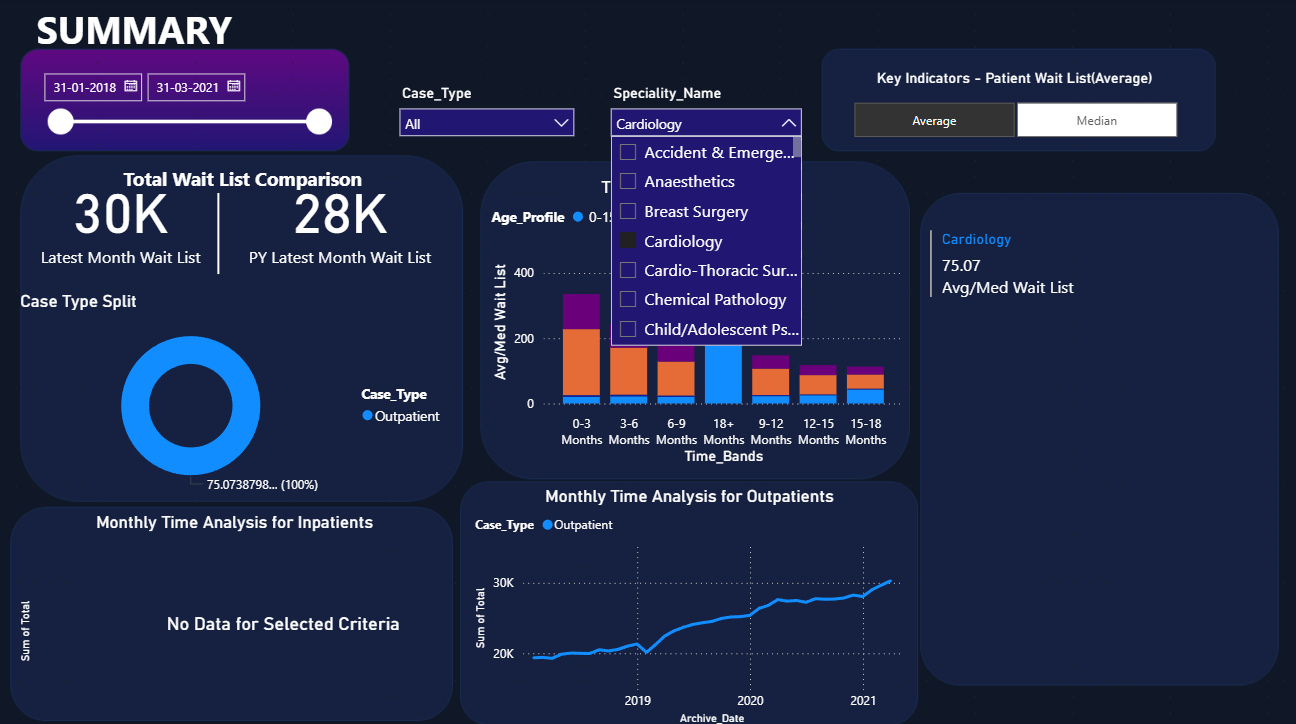

The page's visual inventory and layout, read from the dashboard file:
{"tool":"powerbi","page":{"name":"Summary","canvas":[1280,720],"ordinal":0},"visuals":[{"type":"card","fields":{"Values":["All_Data.Latest Month Wait List"]},"box":[32,160,176,112],"z":0},{"type":"card","fields":{"Values":["All_Data.PY Latest Month Wait List"]},"box":[240,160,192,112],"z":1000},{"type":"slicer","fields":{"Values":["Calculation Method.Calc Method"]},"box":[816,96,368,48],"z":2000},{"type":"donutChart","title":"Case Type Split","fields":{"Category":["All_Data.Case_Type"],"Y":["All_Data.Avg/Med Wait List"]},"box":[16,288,432,208],"z":3000},{"type":"columnChart","title":"Time Band vs. Age Profile","fields":{"Y":["All_Data.Avg/Med Wait List"],"Category":["All_Data.Time_Bands"],"Series":["All_Data.Age_Profile"]},"box":[480,176,416,288],"z":4000},{"type":"multiRowCard","fields":{"Values":["All_Data.Speciality_Name","All_Data.Avg/Med Wait List"]},"box":[912,224,352,448],"z":5000},{"type":"card","fields":{"Values":["All_Data.NoDataLeft"]},"box":[160,592,240,48],"z":5500},{"type":"lineChart","title":"Monthly Time Analysis for Inpatients","fields":{"Category":["All_Data.Archive_Date"],"Y":["Sum(All_Data.Total)"],"Series":["All_Data.Case_Type"]},"box":[16,506,432,208],"z":6000},{"type":"card","fields":{"Values":["All_Data.NoDataRight"]},"box":[624,608,240,48],"z":7000},{"type":"lineChart","title":"Monthly Time Analysis for Outpatients","fields":{"Category":["All_Data.Archive_Date"],"Y":["Sum(All_Data.Total)"],"Series":["All_Data.Case_Type"]},"box":[464,480,432,240],"z":8000},{"type":"slicer","fields":{"Values":["All_Data.Archive_Date"]},"box":[32,64,304,112],"z":9000},{"type":"slicer","fields":{"Values":["All_Data.Case_Type"]},"box":[384,80,192,64],"z":10000},{"type":"slicer","fields":{"Values":["All_Data.Speciality_Name"]},"box":[592,80,208,64],"z":11000},{"type":"textbox","box":[32,0,240,64],"z":12000},{"type":"shape","box":[96,192,240,80],"z":13000},{"type":"textbox","box":[96,160,288,48],"z":14000},{"type":"card","fields":{"Values":["All_Data.Dynamic Title"]},"box":[832,64,336,32],"z":15000}]}

Visuals, with their boxes in screenshot pixels (x1, y1, x2, y2), scaled from the page's 1280x720 canvas onto the 1296x724 screenshot:
card - All_Data.Latest Month Wait List: locate(32, 161, 211, 274)
card - All_Data.PY Latest Month Wait List: locate(243, 161, 437, 274)
slicer - Calculation Method.Calc Method: locate(826, 97, 1199, 145)
"Case Type Split" donutChart: locate(16, 290, 454, 499)
"Time Band vs. Age Profile" columnChart: locate(486, 177, 907, 467)
multiRowCard - All_Data.Speciality_Name x All_Data.Avg/Med Wait List: locate(923, 225, 1280, 676)
card - All_Data.NoDataLeft: locate(162, 595, 405, 644)
"Monthly Time Analysis for Inpatients" lineChart: locate(16, 509, 454, 718)
card - All_Data.NoDataRight: locate(632, 611, 875, 660)
"Monthly Time Analysis for Outpatients" lineChart: locate(470, 483, 907, 723)
slicer - All_Data.Archive_Date: locate(32, 64, 340, 177)
slicer - All_Data.Case_Type: locate(389, 80, 583, 145)
slicer - All_Data.Speciality_Name: locate(599, 80, 810, 145)
textbox: locate(32, 0, 275, 64)
shape: locate(97, 193, 340, 274)
textbox: locate(97, 161, 389, 209)
card - All_Data.Dynamic Title: locate(842, 64, 1183, 97)
